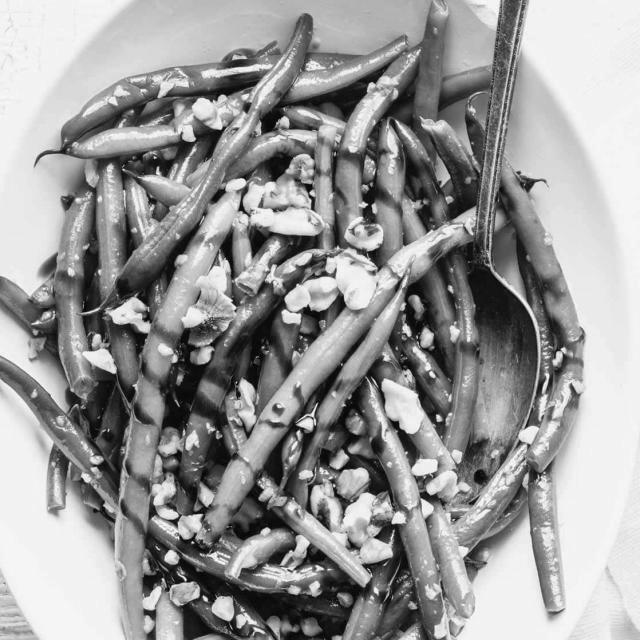Beans: (0, 0, 599, 639)
